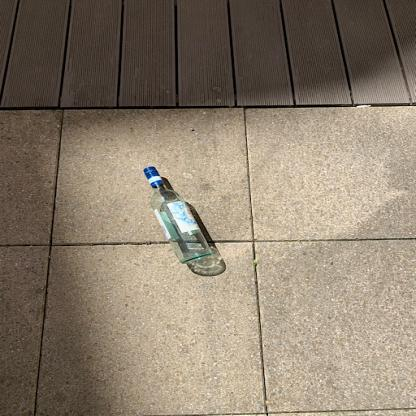trash: (136, 163, 214, 265)
